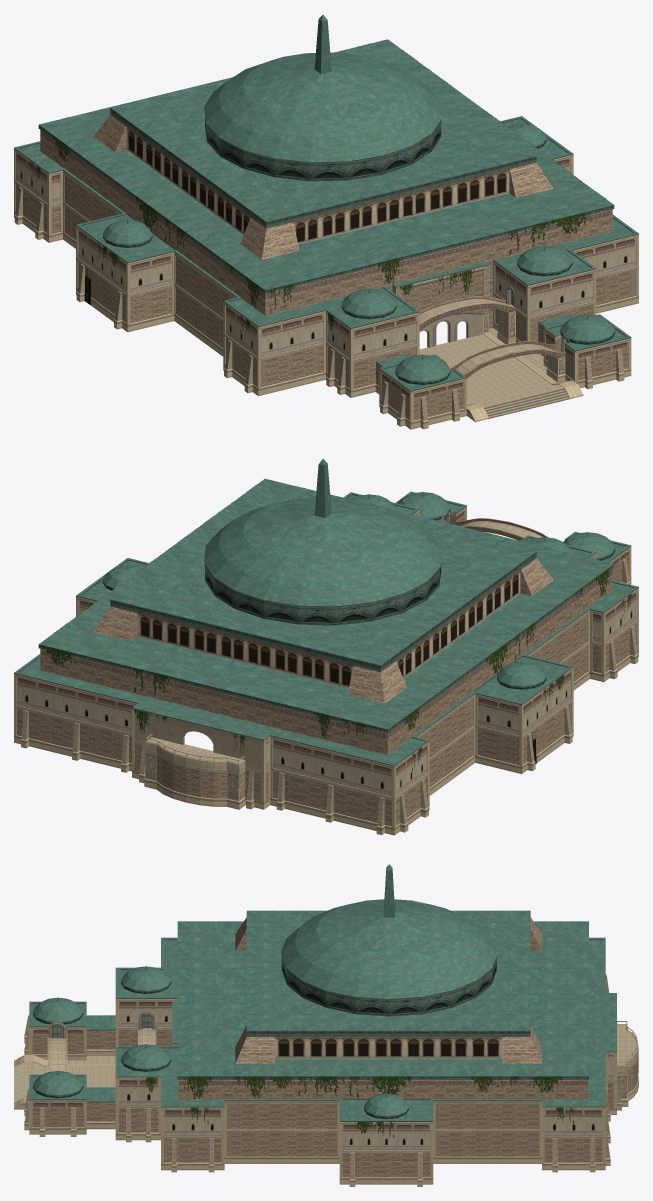
Rendered from mun_nboo_capitol_s01_r0_mesh_l0.fbx.
3 views of the same model, one above another, from view 1: azimuth 30°, elevation 25°; view 2: azimuth 150°, elevation 25°; view 3: azimuth 270°, elevation 25° (orthographic). The views are drawn at different scales.
Visible parts, largest first — view 1: mesh_node; view 2: mesh_node; view 3: mesh_node.
Boxes of the visible parts, box(x1,y1,x2,y2) form: mesh_node: box(14, 14, 638, 429); mesh_node: box(14, 458, 638, 835); mesh_node: box(14, 864, 638, 1186).
Bounding box in the file's own units: 84.28 × 43.08 × 110.
